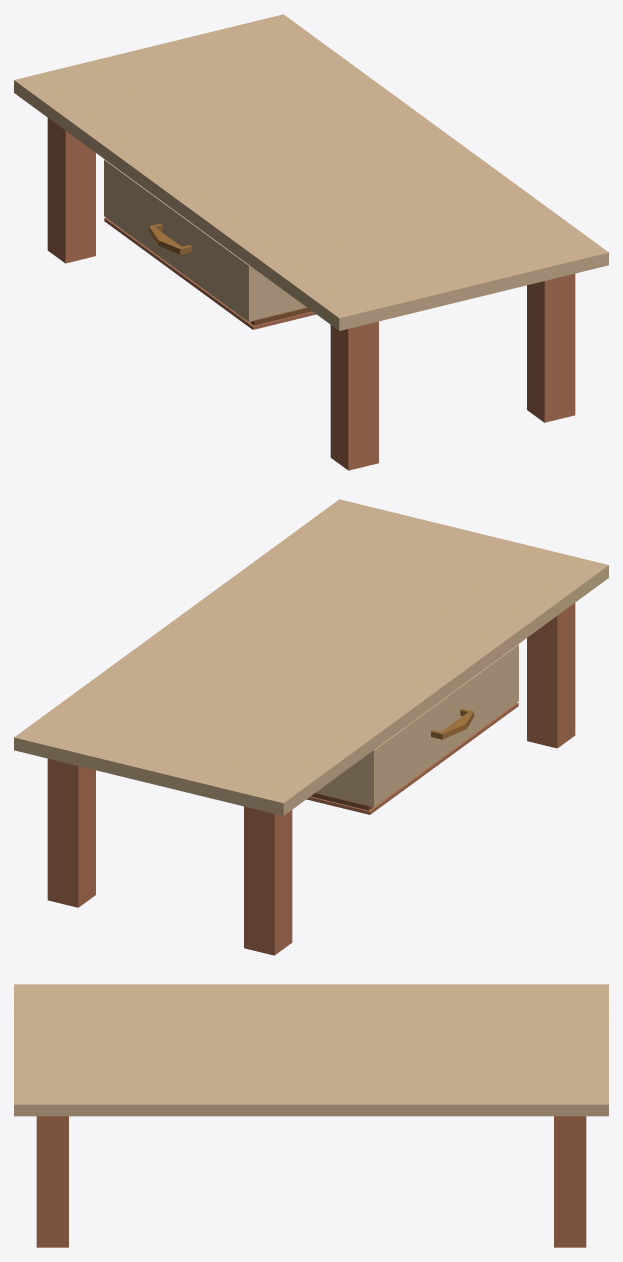
File: table.fbx
The picture shows the model from 3 angles, top to bottom: view 1: azimuth 30°, elevation 25°; view 2: azimuth 150°, elevation 25°; view 3: azimuth 270°, elevation 25°; orthographic projection. The views are drawn at different scales.
Parts seen in each view (by area): view 1: Table, Box, BoxBack; view 2: Table, Box, BoxBack; view 3: Table.
Boxes of the visible parts, box(x1,y1,x2,y2) form: Table: box(14, 14, 608, 470); Box: box(104, 159, 306, 321); BoxBack: box(104, 217, 316, 329); Table: box(14, 499, 608, 955); Box: box(316, 644, 518, 806); BoxBack: box(306, 702, 518, 814); Table: box(14, 984, 608, 1247).
Size of the model in its own units: 236 by 130 by 460.
